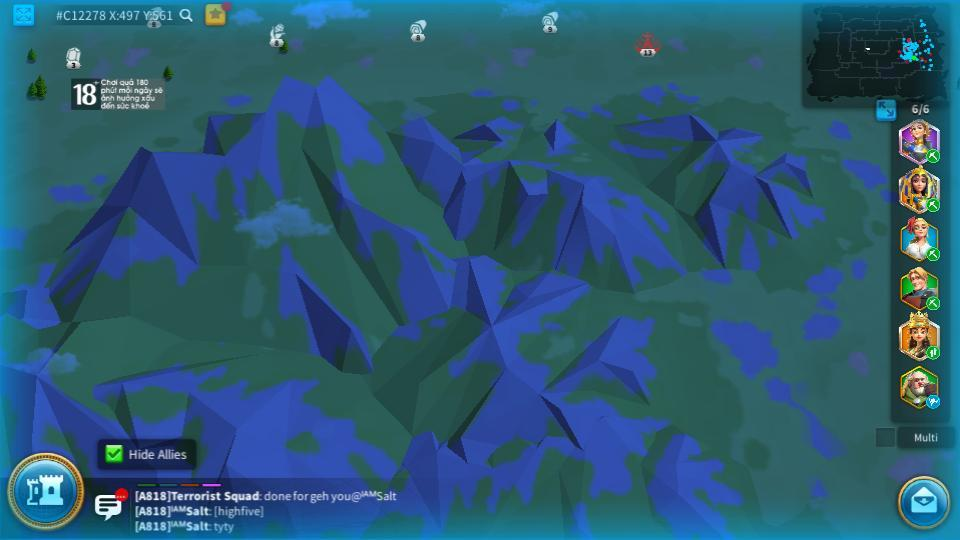gem-z-out: (62, 46, 82, 67)
march_idle: (925, 396, 942, 408)
march_marching: (924, 197, 939, 212), (924, 345, 939, 359), (925, 149, 941, 162), (925, 297, 941, 310)
